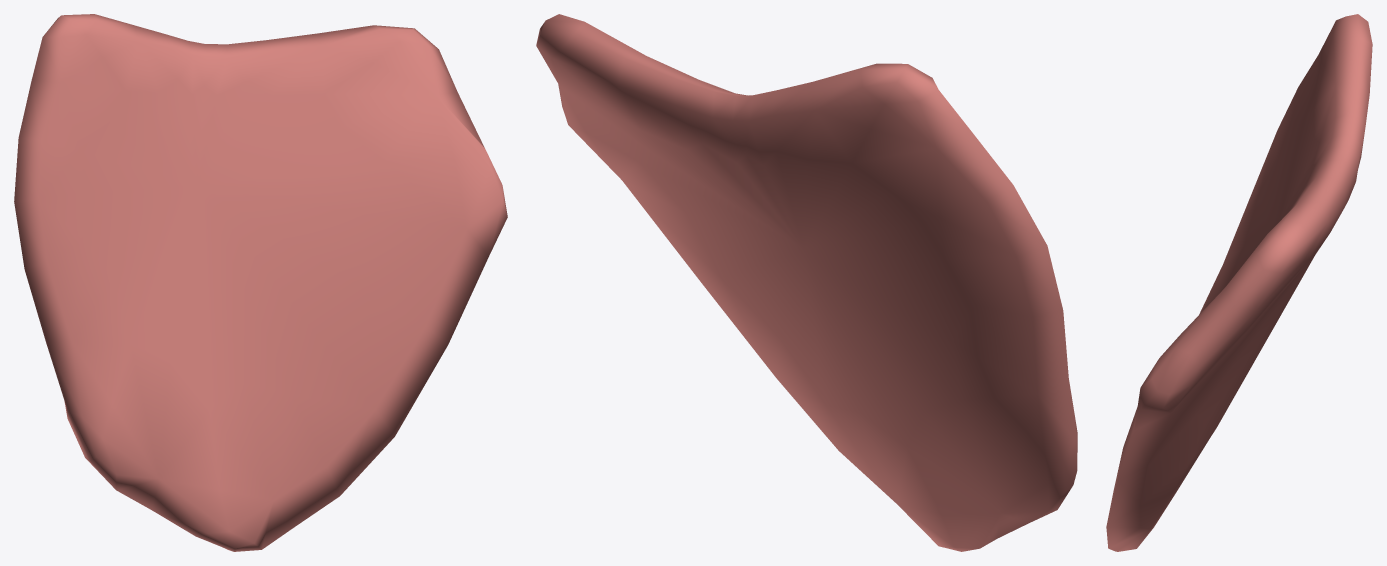
The picture shows the model from 3 angles, left to right: view 1: azimuth 30°, elevation 25°; view 2: azimuth 150°, elevation 25°; view 3: azimuth 270°, elevation 25°; orthographic projection. The views are drawn at different scales.
Parts seen in each view (by area): view 1: ZA_c8efd9175258f4c4; view 2: ZA_c8efd9175258f4c4; view 3: ZA_c8efd9175258f4c4.
Boxes of the visible parts, bbox=[...] form: ZA_c8efd9175258f4c4: bbox=[14, 14, 507, 551]; ZA_c8efd9175258f4c4: bbox=[536, 14, 1077, 551]; ZA_c8efd9175258f4c4: bbox=[1106, 14, 1372, 551].
Size of the model in its own units: 0.00549 by 0.00577 by 0.00281.
